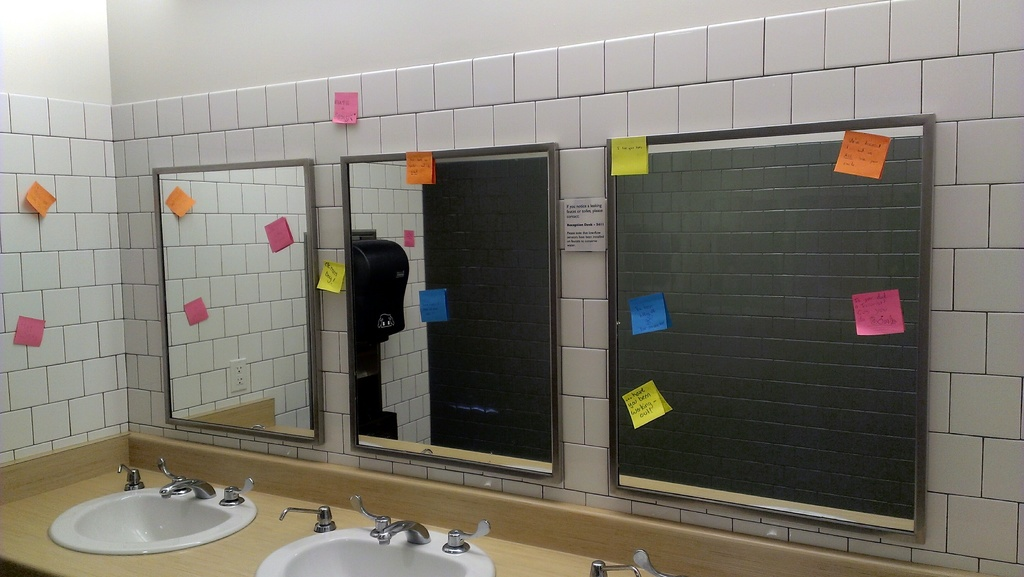tap: (352, 498, 428, 564), (157, 452, 220, 507)
